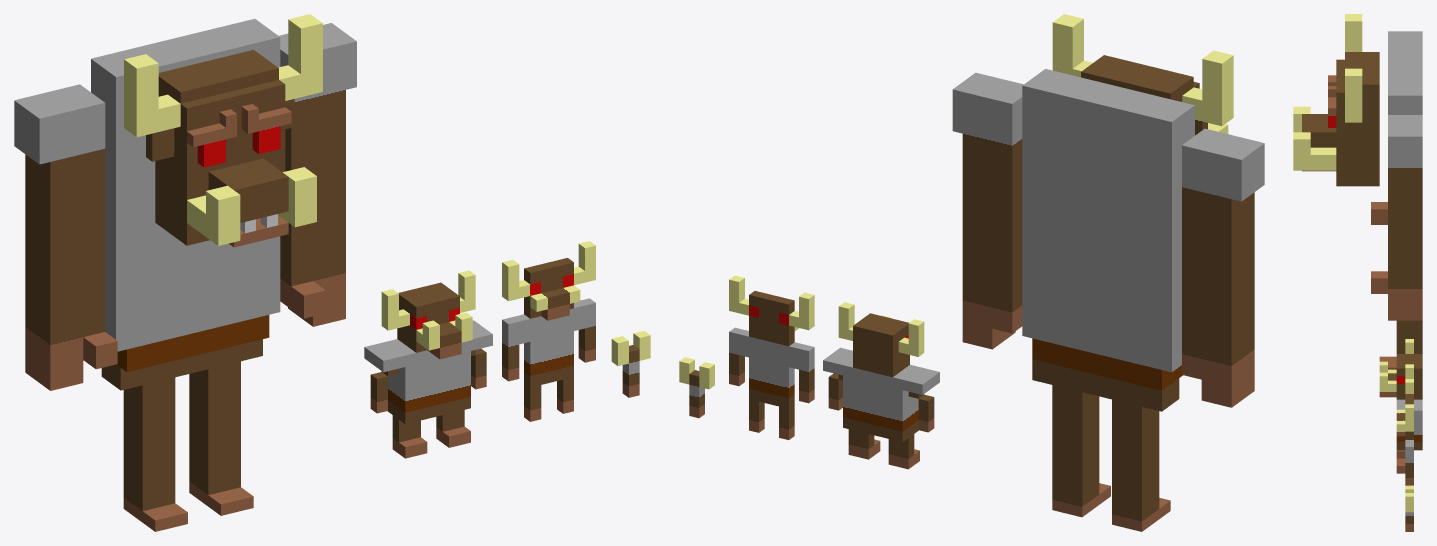
File: trolloc_boar.glb
3 renders of one model, left to right at view 1: azimuth 30°, elevation 25°; view 2: azimuth 150°, elevation 25°; view 3: azimuth 270°, elevation 25°, orthographic. The views are drawn at different scales.
Parts seen in each view (by area): view 1: pl0; view 2: pl0; view 3: pl0.
Boxes of the visible parts, left/top/right/bottom form: pl0: left=14, top=14, right=650, bottom=531; pl0: left=679, top=14, right=1264, bottom=531; pl0: left=1293, top=14, right=1422, bottom=531.
Size of the model in its own units: 57 by 43 by 15.
Materials: 1 (1 with a texture image).
